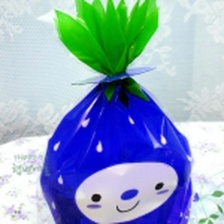snack: (29, 0, 201, 224)
